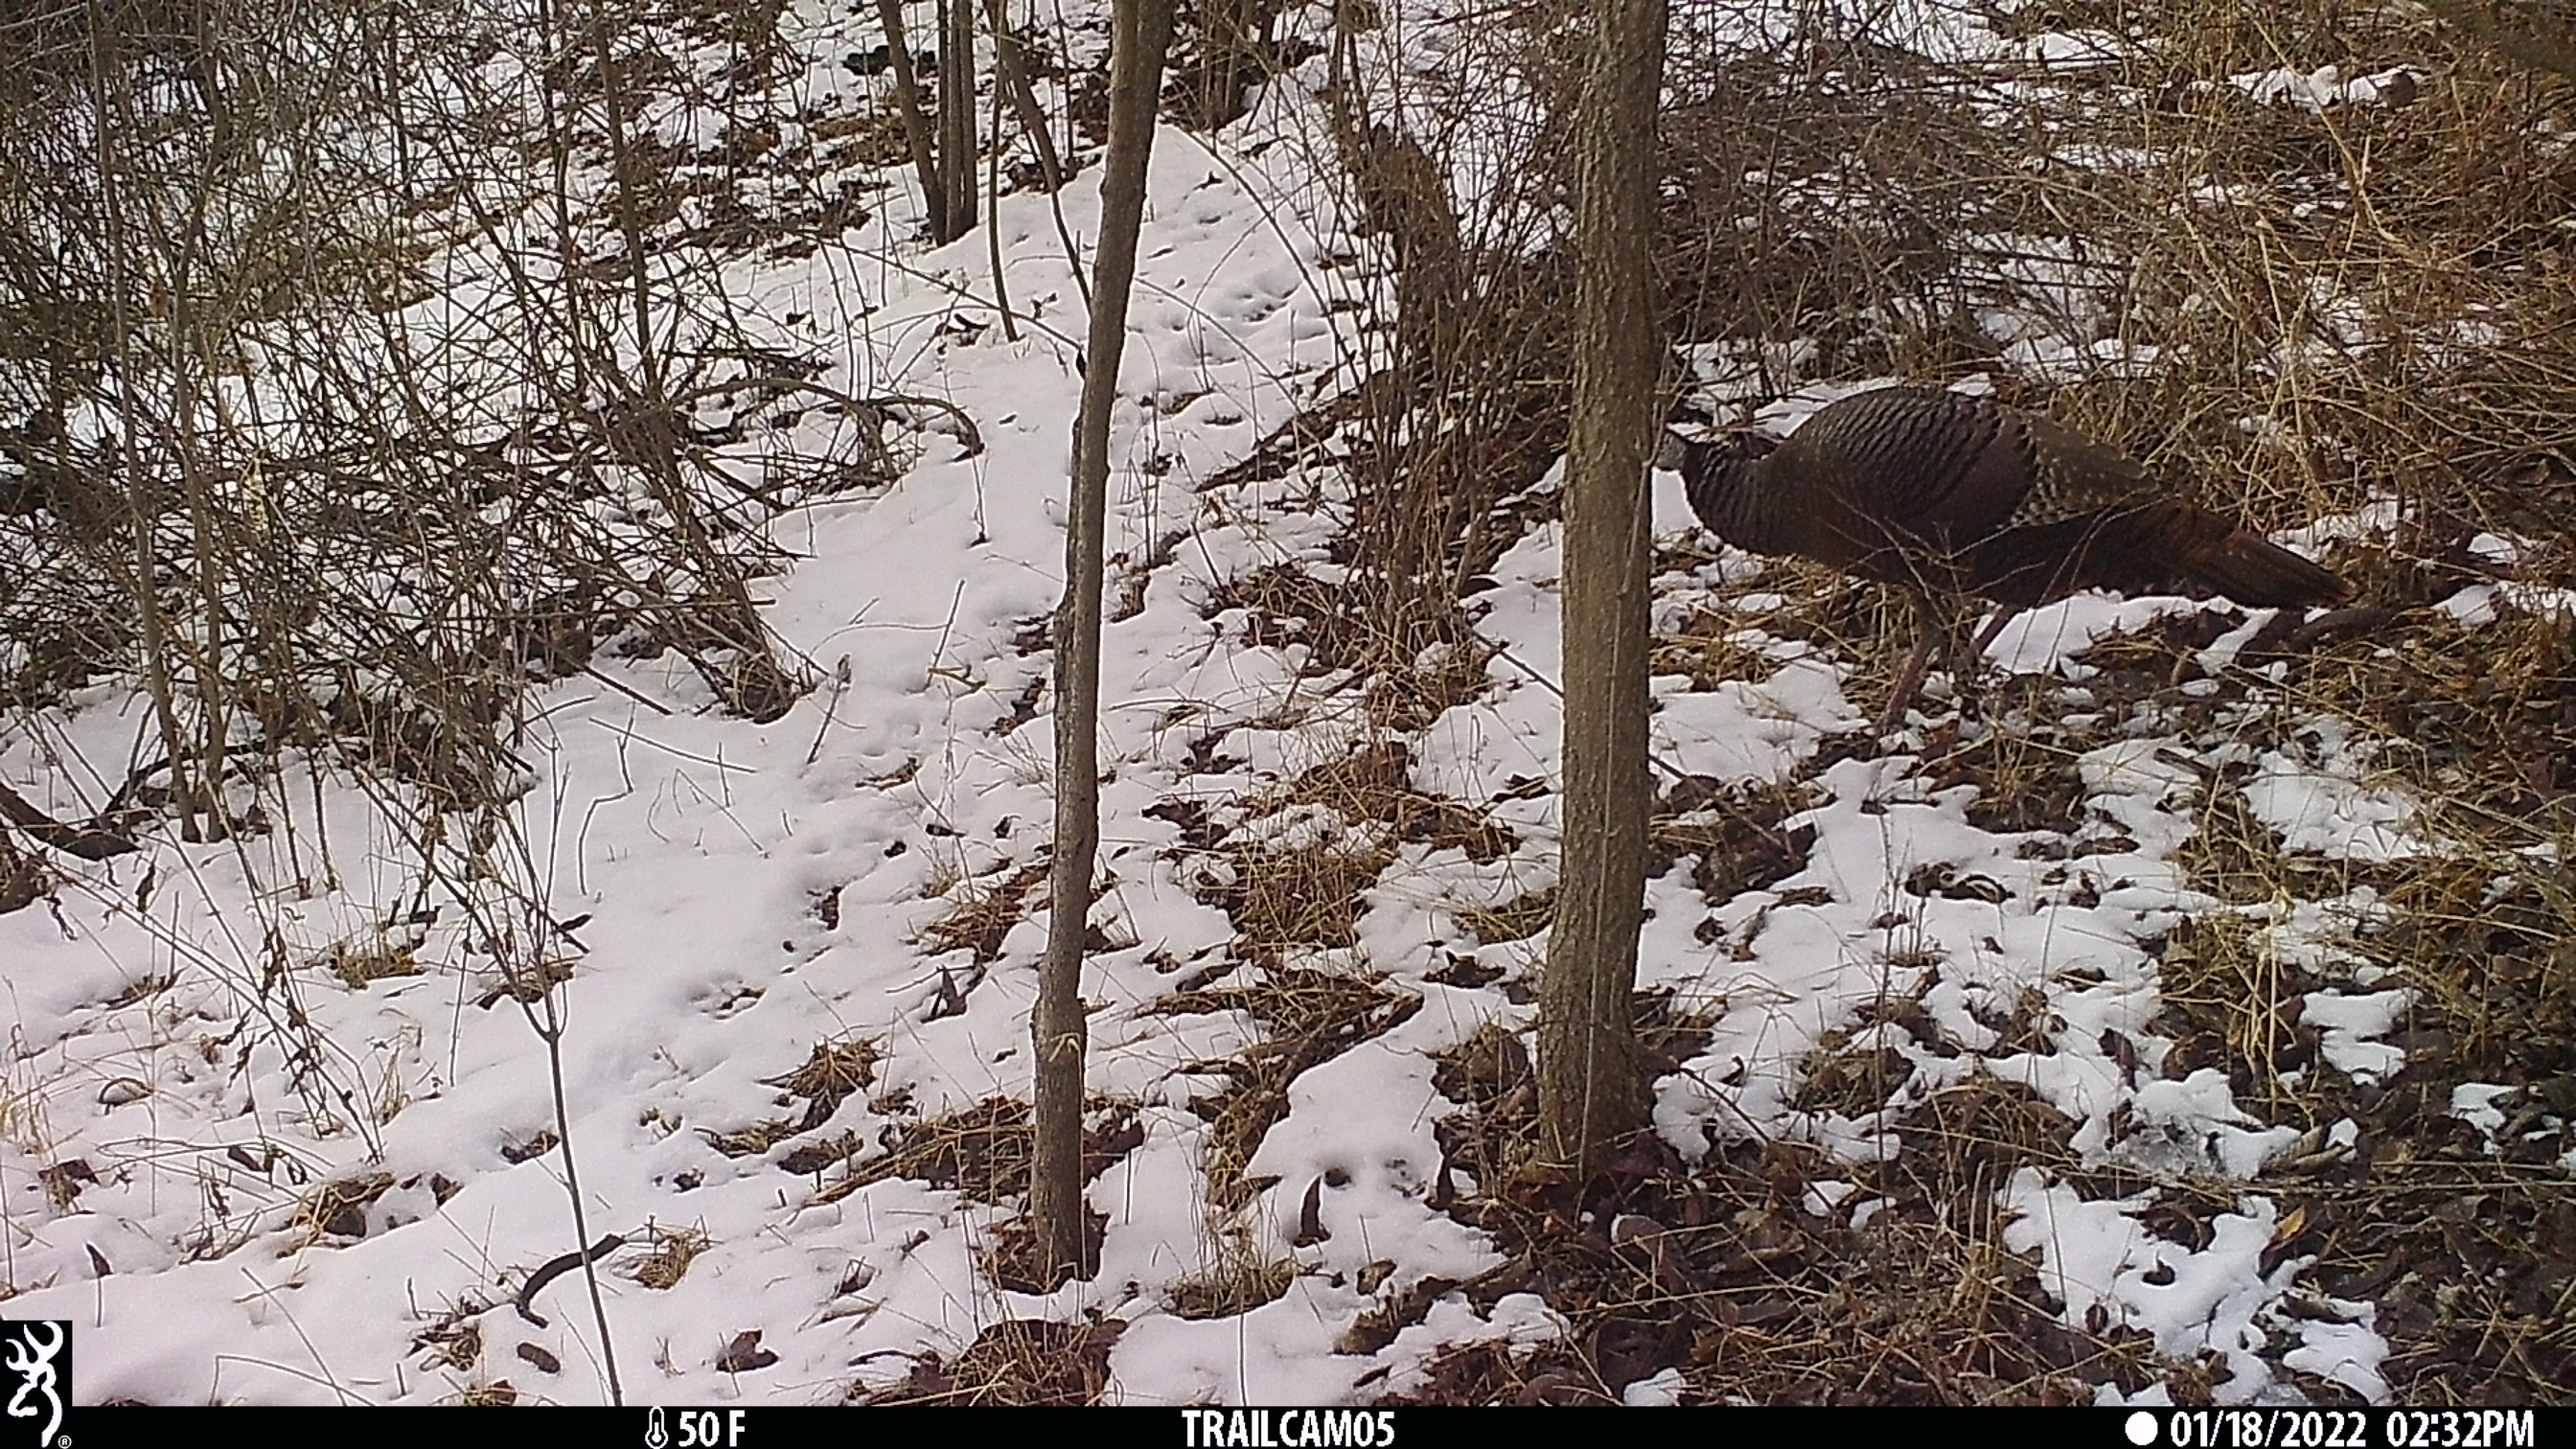Turkey: (1654, 380, 2364, 617)
